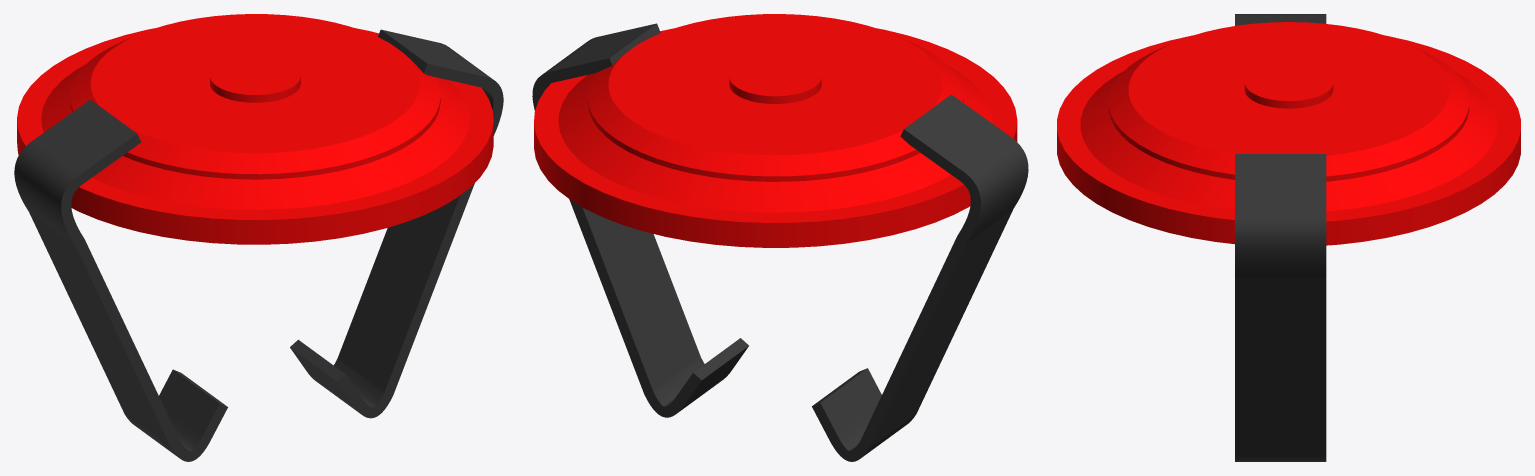
Rendered from Petarda.FBX.
3 views of the same model, side by side, from view 1: azimuth 30°, elevation 25°; view 2: azimuth 150°, elevation 25°; view 3: azimuth 270°, elevation 25° (orthographic). The views are drawn at different scales.
Parts seen in each view (by area): view 1: Line002, Line001, Line003; view 2: Line002, Line001, Line003; view 3: Line002, Line003, Line001.
Part boxes in pixels (<box>): Line002: <box>17,14,493,244</box>; Line001: <box>14,99,227,461</box>; Line003: <box>290,29,503,418</box>; Line002: <box>534,14,1017,247</box>; Line001: <box>812,94,1028,461</box>; Line003: <box>532,23,748,417</box>; Line002: <box>1057,22,1520,245</box>; Line003: <box>1235,154,1326,461</box>; Line001: <box>1235,14,1326,25</box>.
Size of the model in its own units: 24.54 by 18.23 by 22.87.
